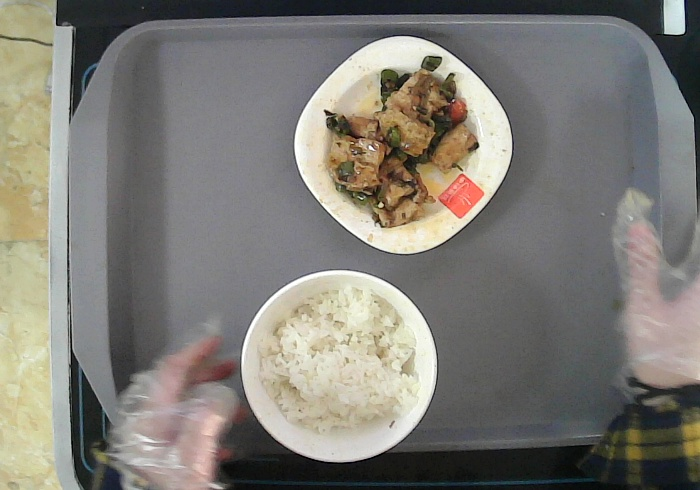SHKJ-Bai_Se_Si_Fang_Cai_Die: (291, 35, 511, 255)
SHKJ-Fan_Wan: (238, 269, 437, 464)
